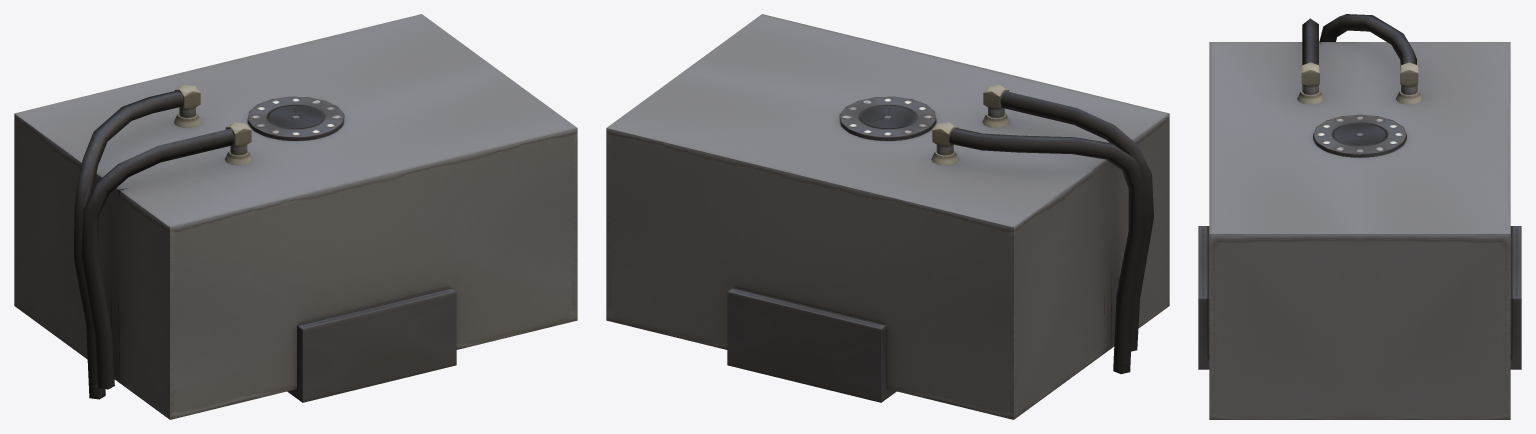
The model's file is battery.dae.
The picture shows the model from 3 angles, left to right: view 1: azimuth 30°, elevation 25°; view 2: azimuth 150°, elevation 25°; view 3: azimuth 270°, elevation 25°; orthographic projection. The views are drawn at different scales.
Visible parts, largest first — view 1: Battery; view 2: Battery; view 3: Battery.
Part boxes in pixels (x1,y1,x2,y2): Battery: (14,14,577,419); Battery: (606,14,1169,419); Battery: (1198,14,1521,419).
Bounding box in the file's own units: 0.6252 × 0.4081 × 0.3282.
Materials: 1 (1 with a texture image).
